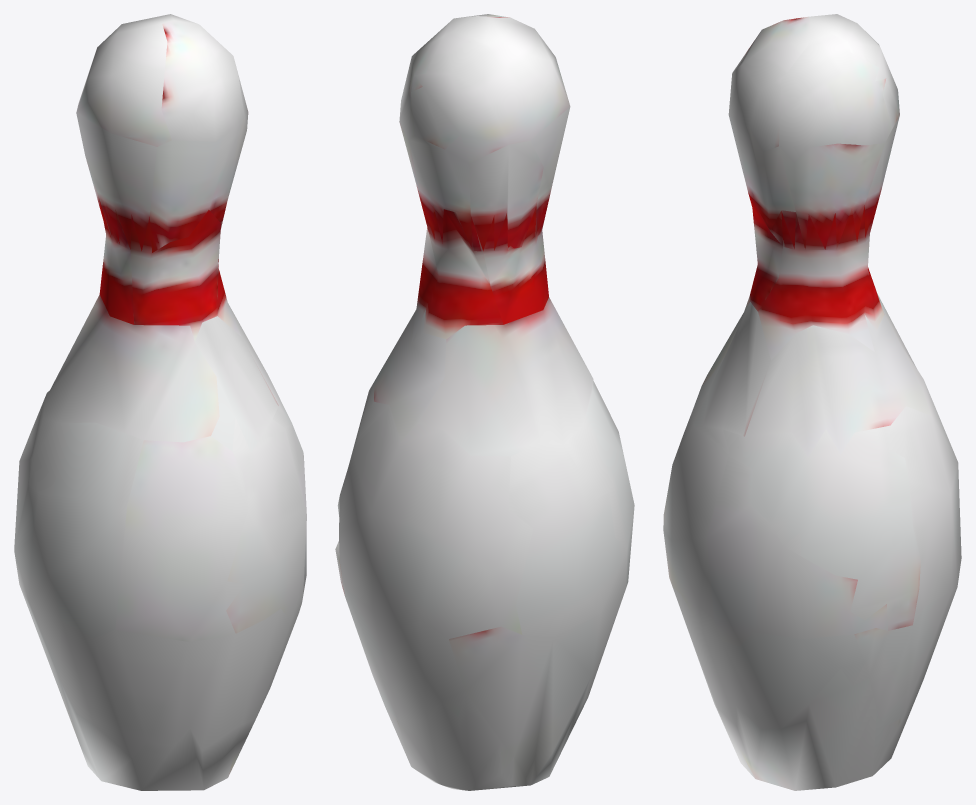
The model's file is pin.glb.
3 views of the same model, side by side, from view 1: azimuth 30°, elevation 25°; view 2: azimuth 150°, elevation 25°; view 3: azimuth 270°, elevation 25° (orthographic).
Visible parts, largest first — view 1: tripo_node_9cf7638b-56ac-4da6-8f30-4edabe702940; view 2: tripo_node_9cf7638b-56ac-4da6-8f30-4edabe702940; view 3: tripo_node_9cf7638b-56ac-4da6-8f30-4edabe702940.
Boxes of the visible parts, bbox=[...] form: tripo_node_9cf7638b-56ac-4da6-8f30-4edabe702940: bbox=[14, 14, 306, 790]; tripo_node_9cf7638b-56ac-4da6-8f30-4edabe702940: bbox=[335, 14, 634, 790]; tripo_node_9cf7638b-56ac-4da6-8f30-4edabe702940: bbox=[663, 14, 961, 790].
Bounding box in the file's own units: 0.3551 × 0.9781 × 0.3535.
1 material, 1 textured.
